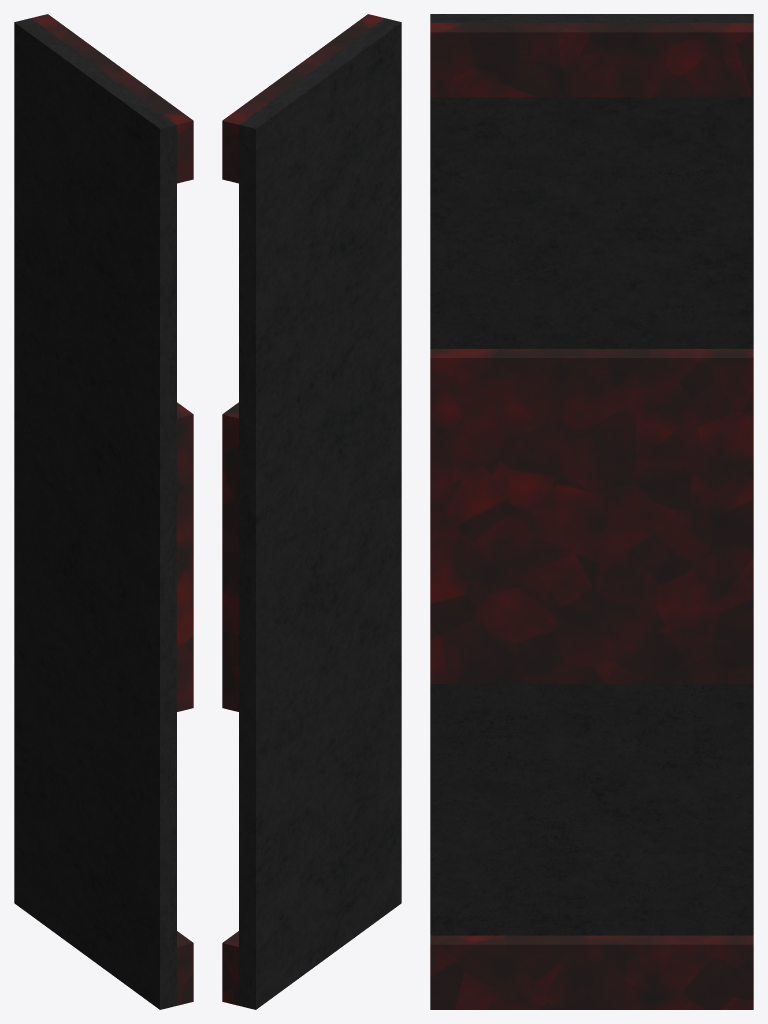
File: WallRed.fbx
3 views of the same model, side by side, from view 1: azimuth 30°, elevation 25°; view 2: azimuth 150°, elevation 25°; view 3: azimuth 270°, elevation 25° (orthographic). The views are drawn at different scales.
Visible parts, largest first — view 1: RedWall; view 2: RedWall; view 3: RedWall.
Boxes of the visible parts, box(x1,y1,x2,y2) form: RedWall: box(14, 14, 193, 1009); RedWall: box(222, 14, 401, 1009); RedWall: box(430, 14, 753, 1009).
Bounding box in the file's own units: 40 × 1000 × 300.
